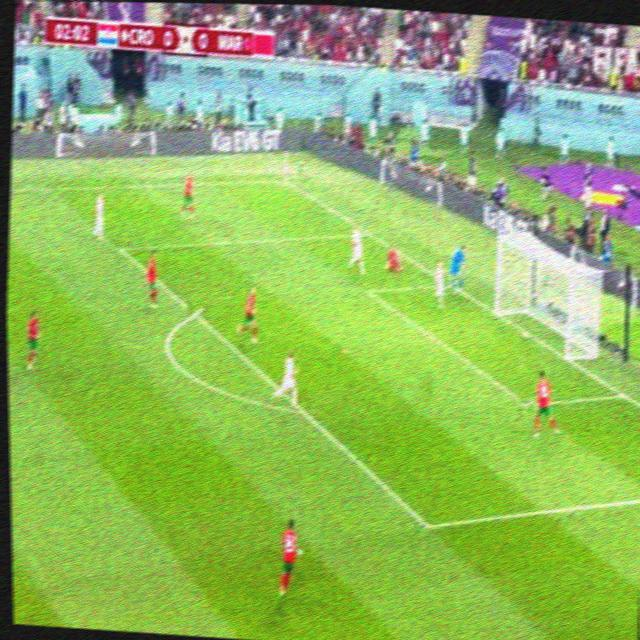bigarea_bottom_inner: (414, 508, 440, 542)
bigarea_top_inner: (111, 236, 129, 259)
bigarea_top_outter: (361, 225, 376, 242)
bottom_arc_area_intersection: (292, 399, 310, 421)
corner: (275, 172, 293, 187)
smallarea_bottom_inner: (518, 391, 537, 416)
smallarea_bottom_outter: (612, 383, 632, 406)
smallarea_top_inner: (358, 279, 376, 301)
smallarea_top_outter: (442, 276, 459, 294)
top_arc_area_intersection: (186, 303, 205, 324)
